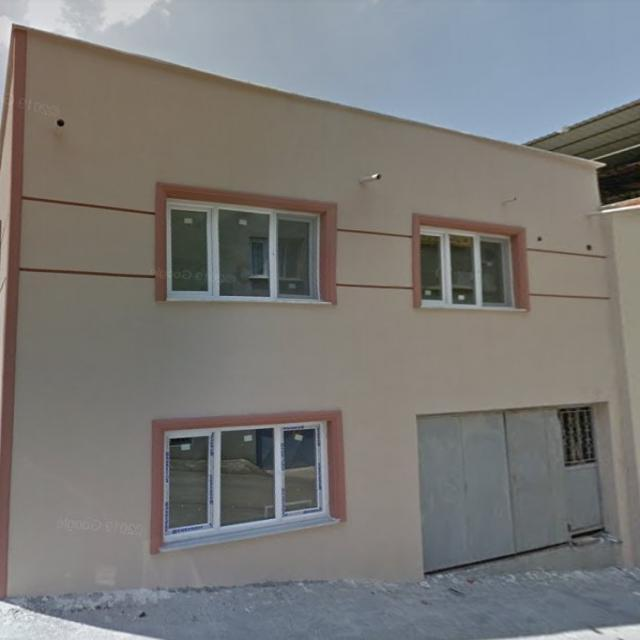Building: (0, 27, 638, 600)
